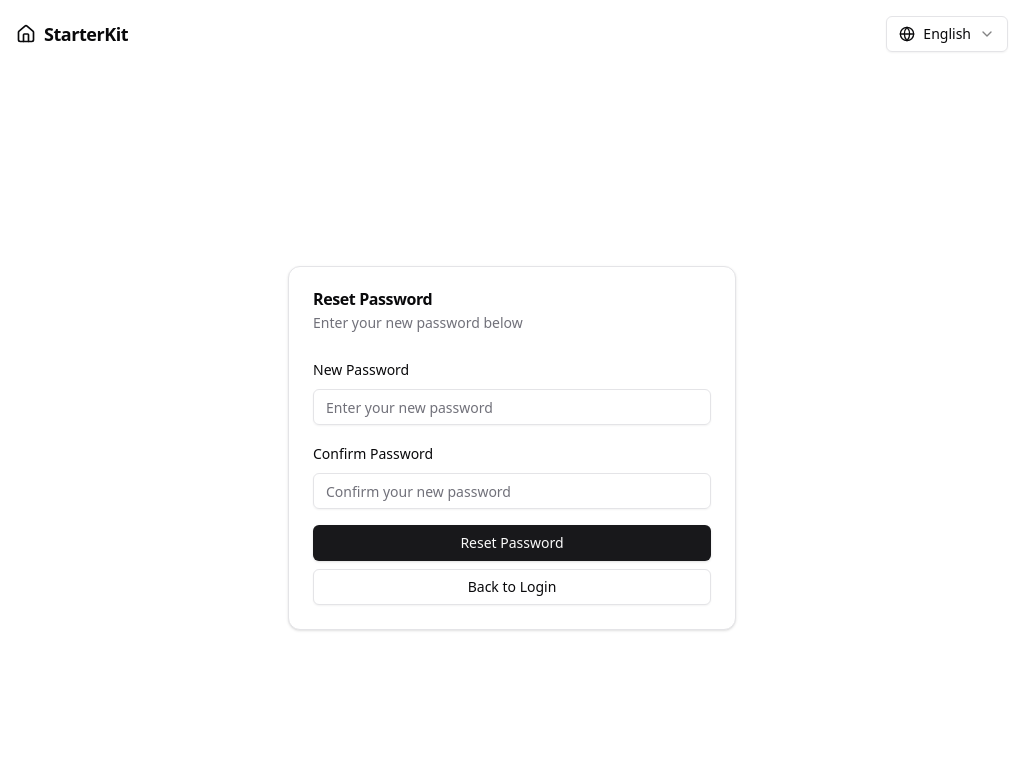
Test: ResetPasswordPage › validates password matching
The width and height of the screenshot is (1024, 768).
Step 1. Type "Password123!" into the password field labelled "New Password" → (512, 407), box [313, 389, 711, 425]
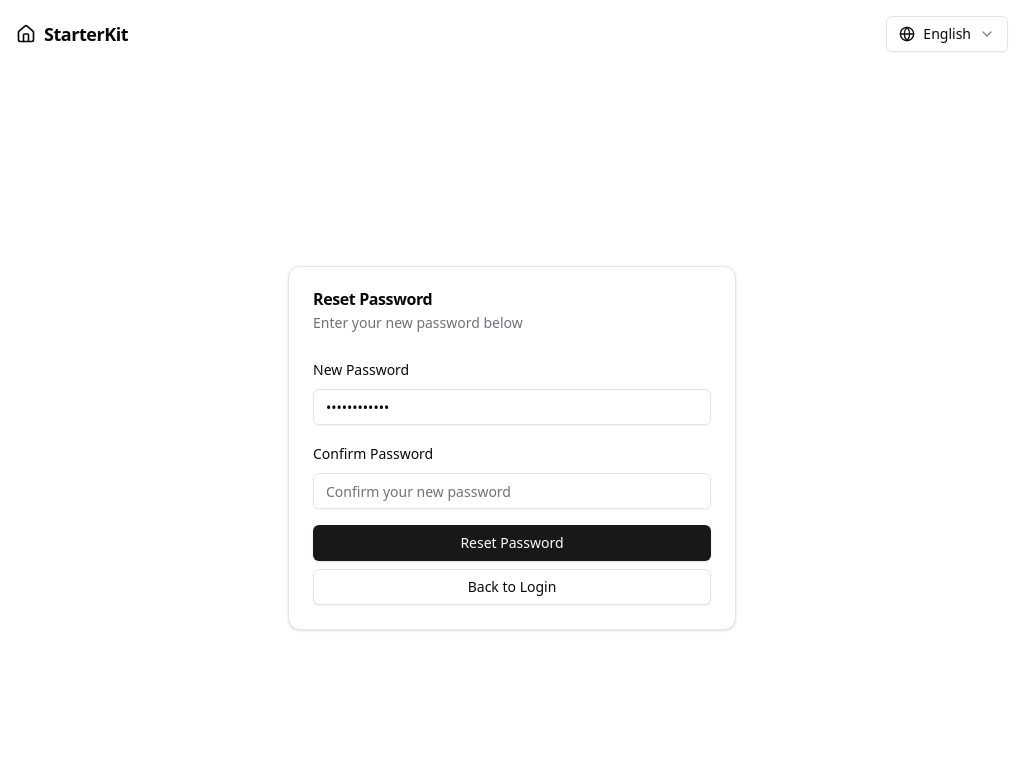
Step 2. Type "Different123!" into the password field labelled "Confirm Password" → (512, 491), box [313, 473, 711, 509]
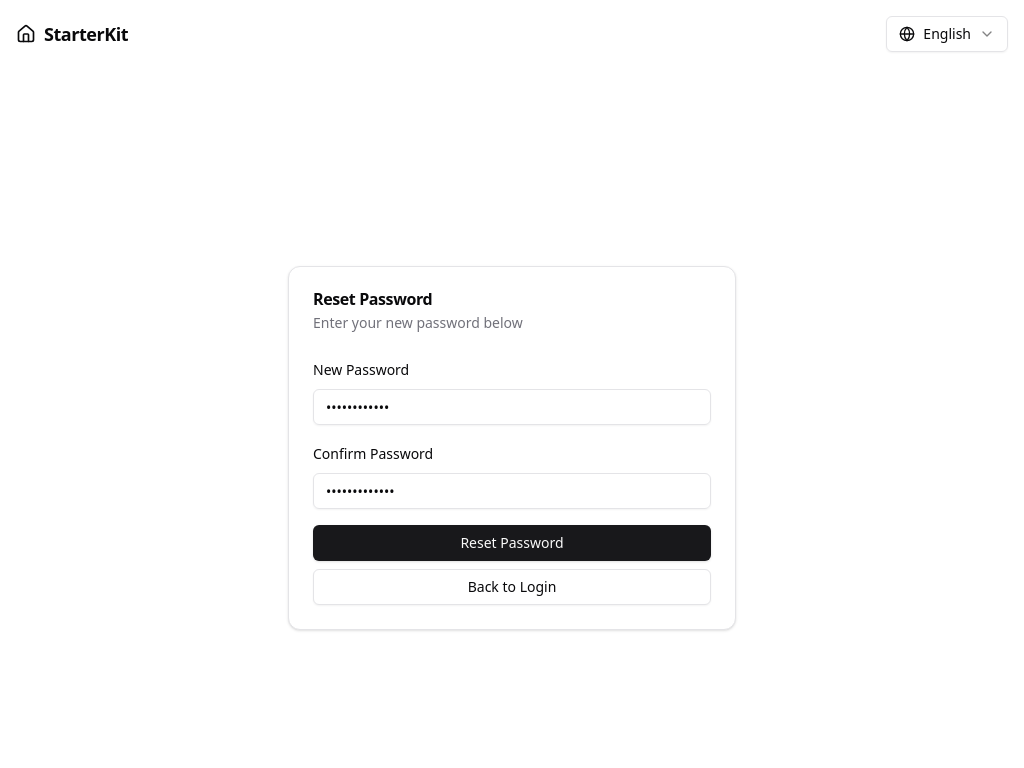
Step 3. Click the button "Reset Password" → (512, 543), box [313, 525, 711, 561]
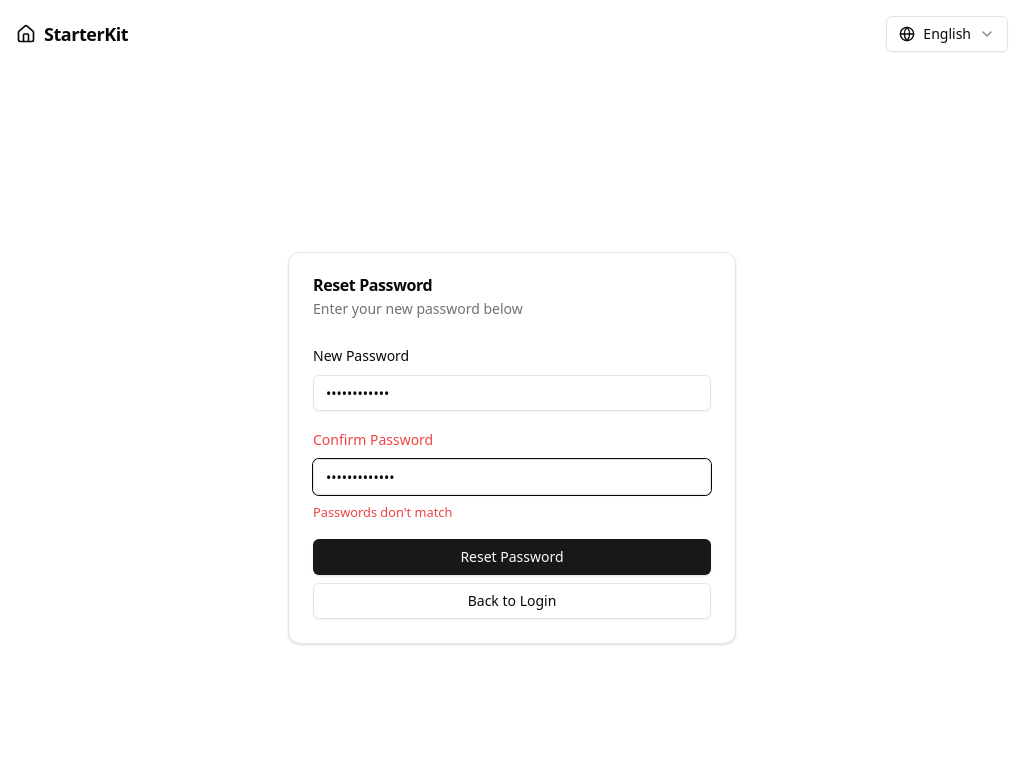
Result: the text "Passwords don't match" is shown at [313, 503, 452, 521]
